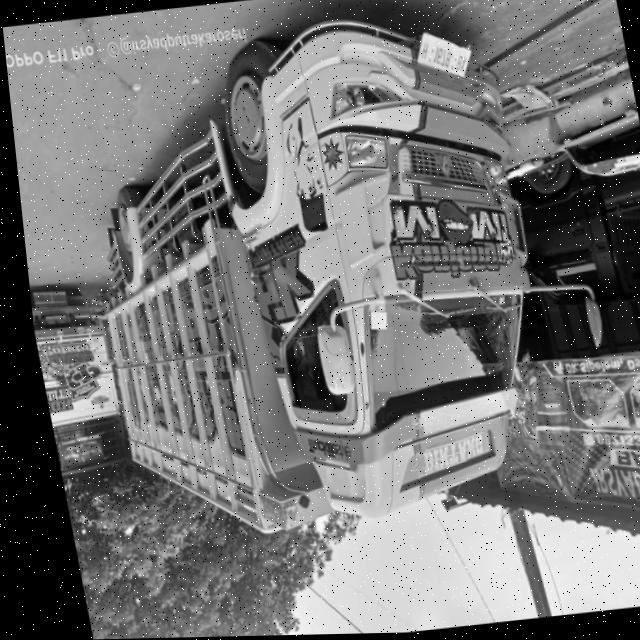truck: (174, 5, 607, 540), (23, 272, 118, 433)
